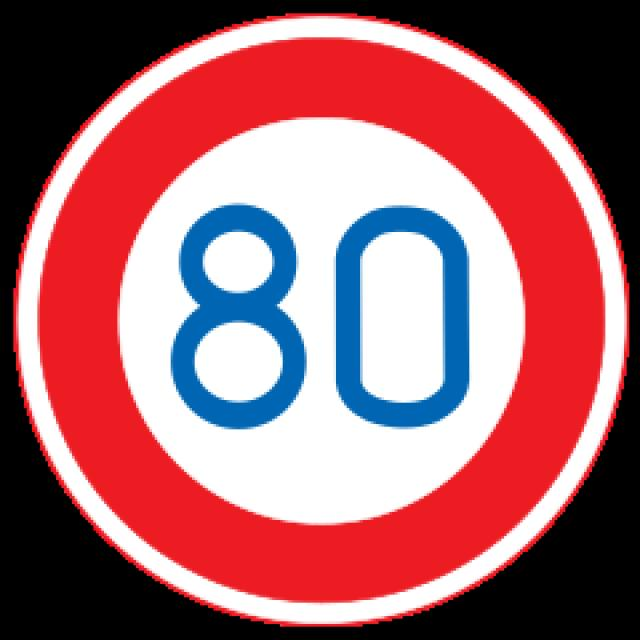Speed Limit -80-: (169, 202, 471, 428)
